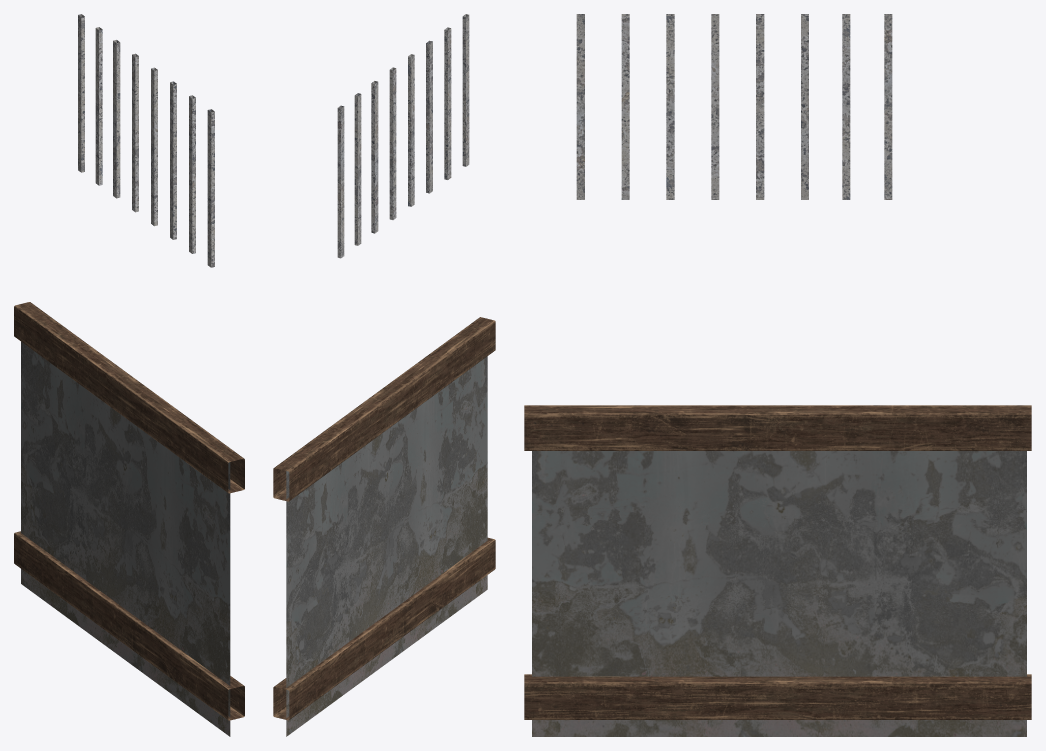
Rendered from SM_BackWall_08.fbx.
The picture shows the model from 3 angles, left to right: view 1: azimuth 30°, elevation 25°; view 2: azimuth 150°, elevation 25°; view 3: azimuth 270°, elevation 25°; orthographic projection. The views are drawn at different scales.
Parts seen in each view (by area): view 1: SM_BackWall_08_LOD0; view 2: SM_BackWall_08_LOD0; view 3: SM_BackWall_08_LOD0.
Boxes of the visible parts, x1,y1,x2,y2 form: SM_BackWall_08_LOD0: [14, 14, 244, 736]; SM_BackWall_08_LOD0: [273, 14, 495, 736]; SM_BackWall_08_LOD0: [524, 14, 1031, 736].
Bounding box in the file's own units: 24.31 × 546 × 859.
